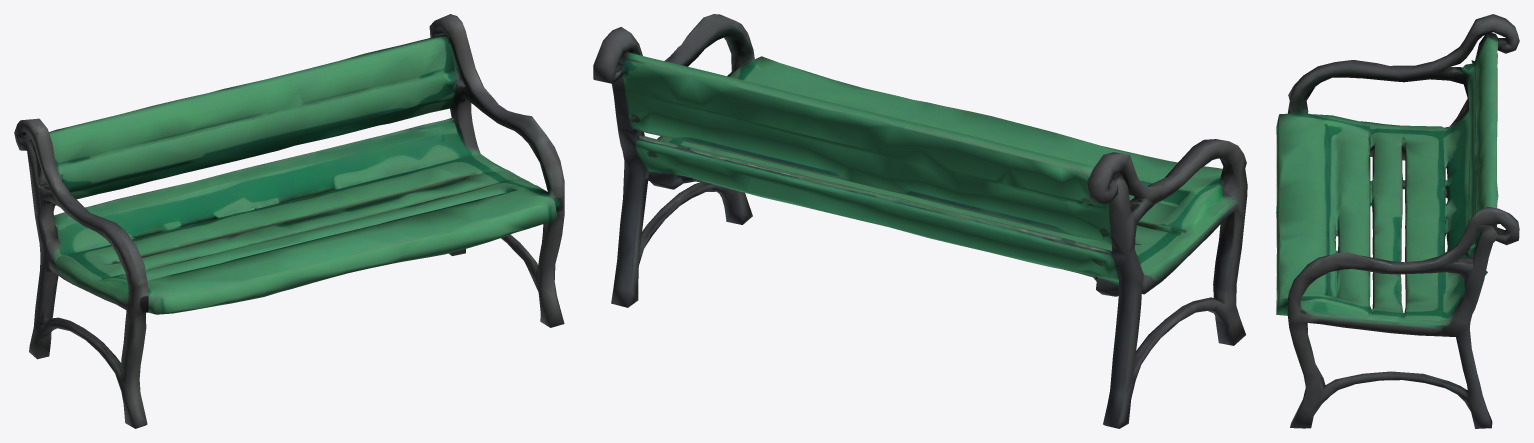
The model's file is bench_nyc.glb.
3 views of the same model, side by side, from view 1: azimuth 30°, elevation 25°; view 2: azimuth 150°, elevation 25°; view 3: azimuth 270°, elevation 25° (orthographic). The views are drawn at different scales.
Bounding box in the file's own units: 2 × 1.04 × 1.04.
Materials: 1 (1 with a texture image).
